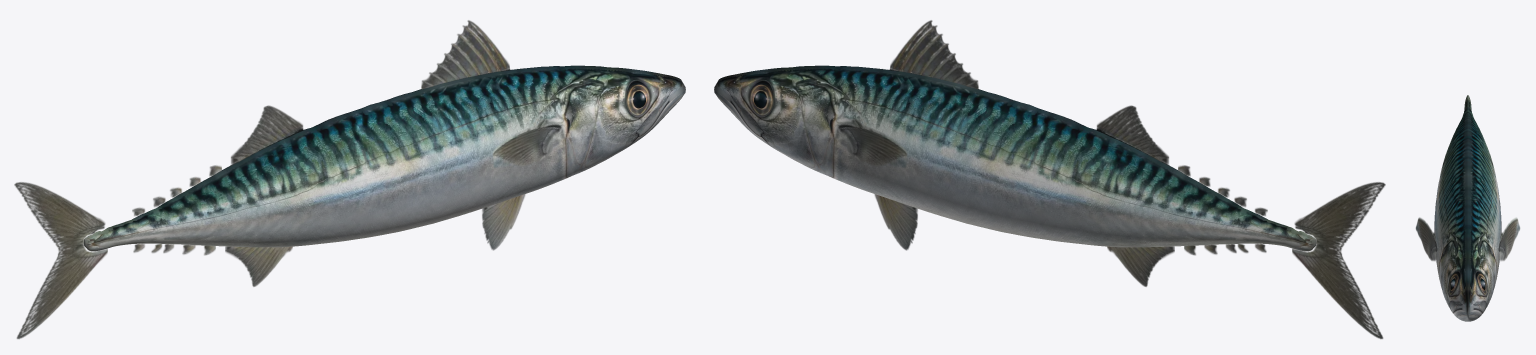
The model's file is scomber_scombrus.glb.
The picture shows the model from 3 angles, left to right: view 1: azimuth 30°, elevation 25°; view 2: azimuth 150°, elevation 25°; view 3: azimuth 270°, elevation 25°; orthographic projection. The views are drawn at different scales.
Parts seen in each view (by area): view 1: scomber_scombrus; view 2: scomber_scombrus; view 3: scomber_scombrus.
Part boxes in pixels (<box>): scomber_scombrus: <box>14,20,685,338</box>; scomber_scombrus: <box>714,20,1385,338</box>; scomber_scombrus: <box>1415,95,1520,321</box>.
Bounding box in the file's own units: 0.3005 × 0.1014 × 0.0555.
Materials: 1 (1 with a texture image).
